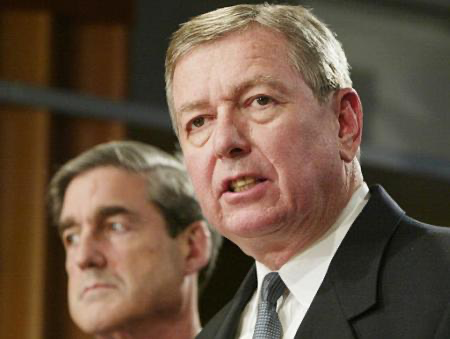Face: (170, 46, 339, 245), (54, 177, 166, 329)
